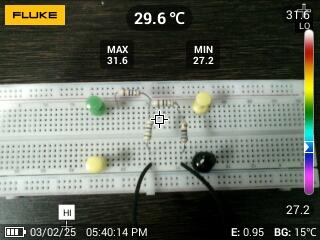resistor: (177, 117, 191, 145), (142, 117, 156, 144), (150, 98, 178, 109), (118, 87, 142, 99)
